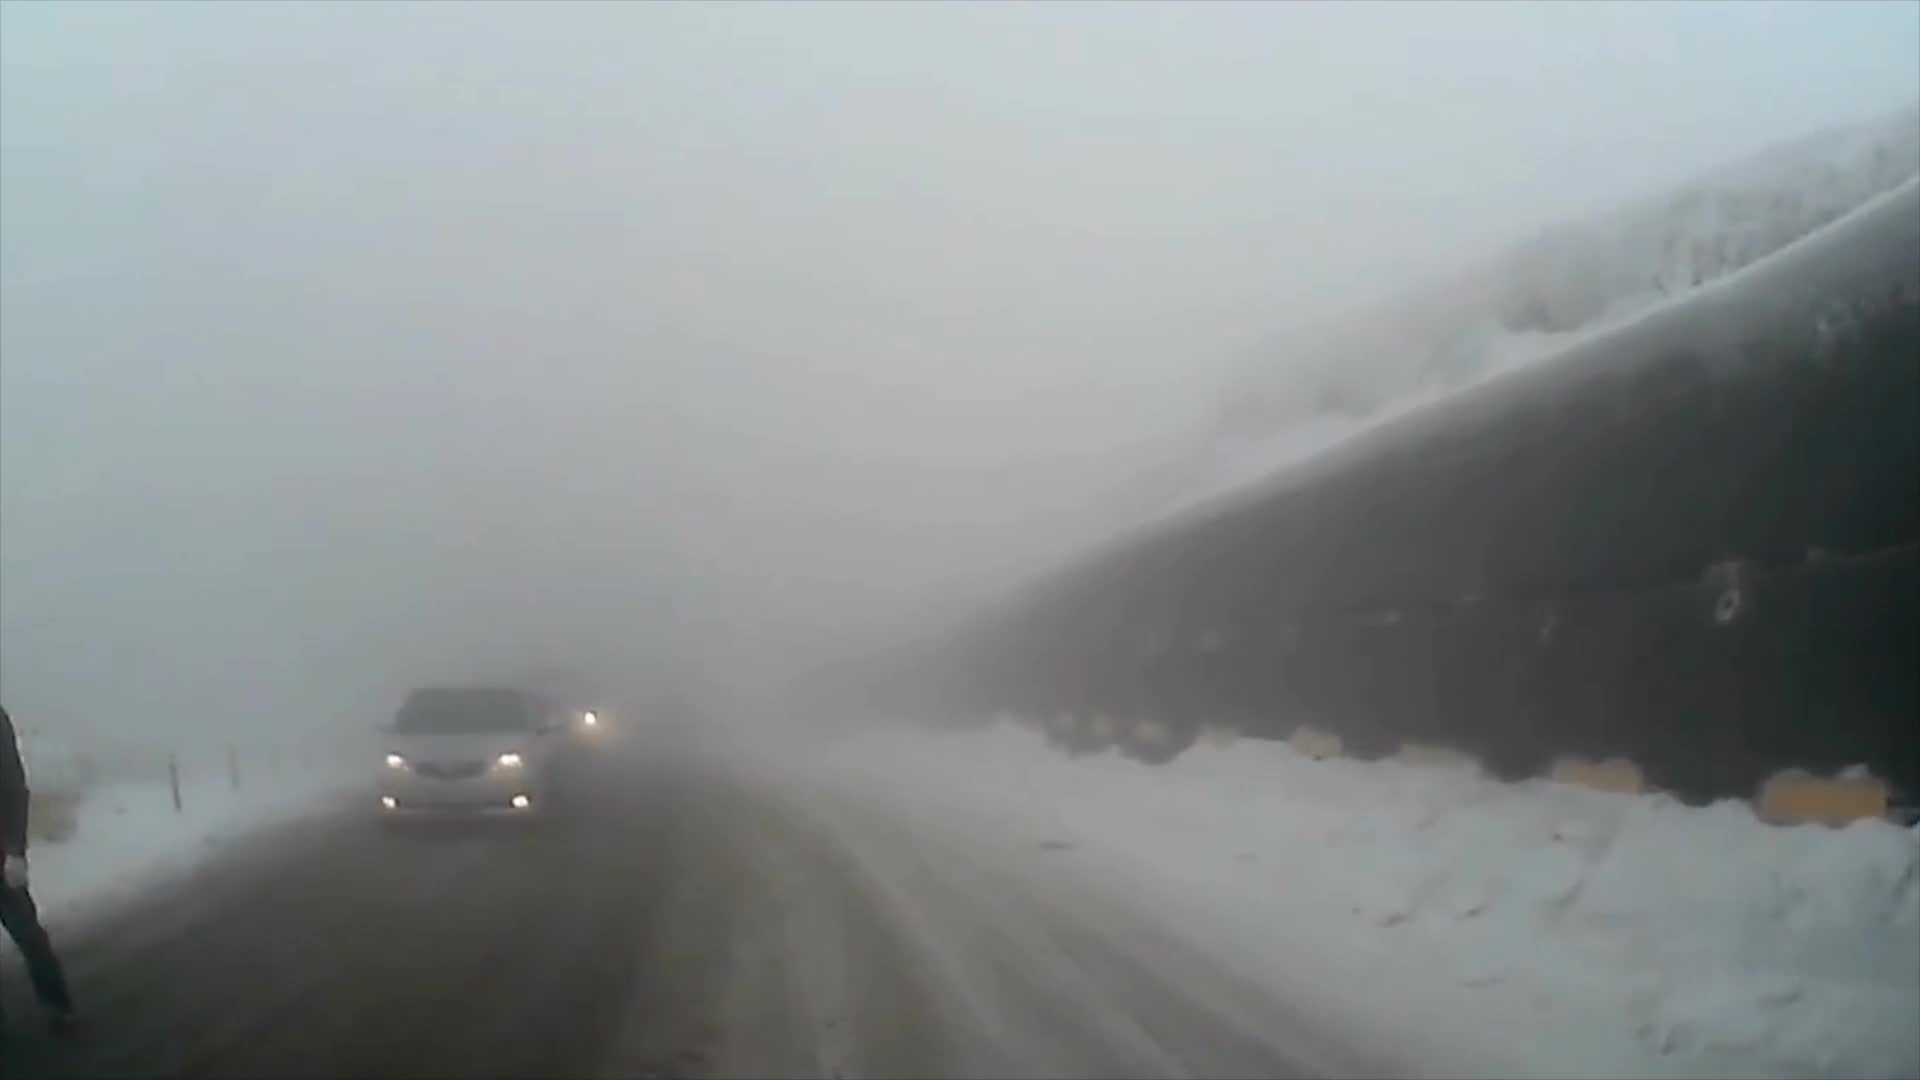pedestrian: (1, 683, 82, 1039)
vehicle: (367, 681, 562, 835)
